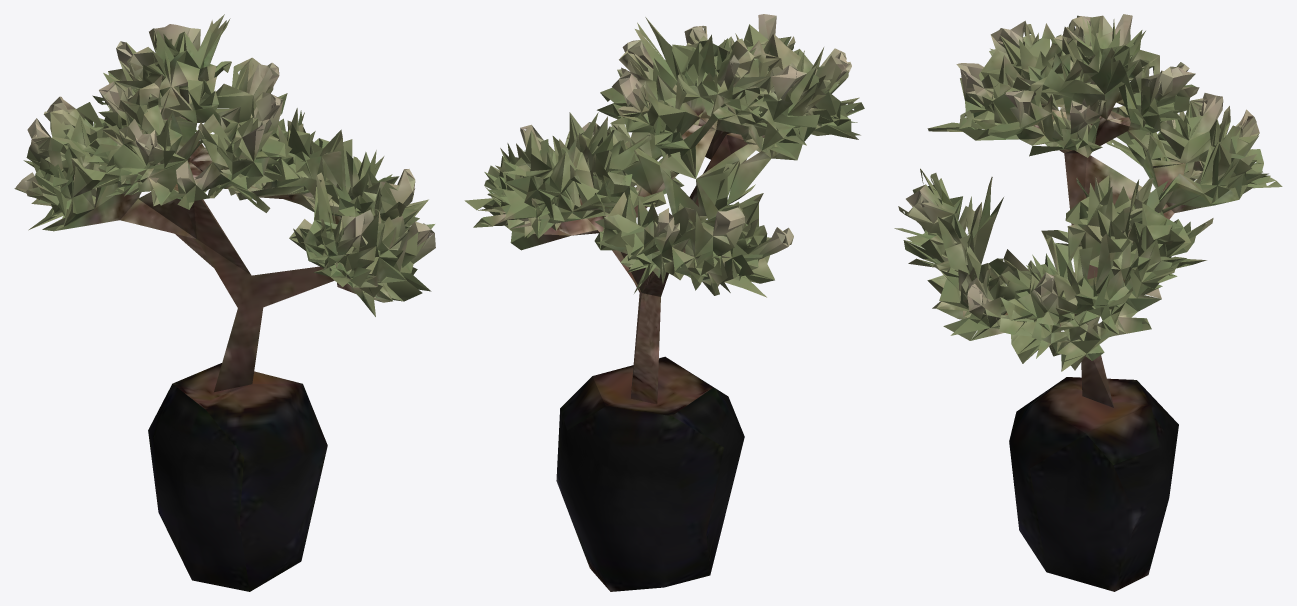
File: ikebana.glb
3 views of the same model, side by side, from view 1: azimuth 30°, elevation 25°; view 2: azimuth 150°, elevation 25°; view 3: azimuth 270°, elevation 25° (orthographic). The views are drawn at different scales.
Visible parts, largest first — view 1: ikebana; view 2: ikebana; view 3: ikebana.
Part boxes in pixels (box(x1,y1,x2,y2)): ikebana: box(14, 14, 435, 591); ikebana: box(464, 14, 864, 591); ikebana: box(894, 14, 1282, 591).
Size of the model in its own units: 0.4022 by 0.6 by 0.4064.
Materials: 1 (1 with a texture image).
